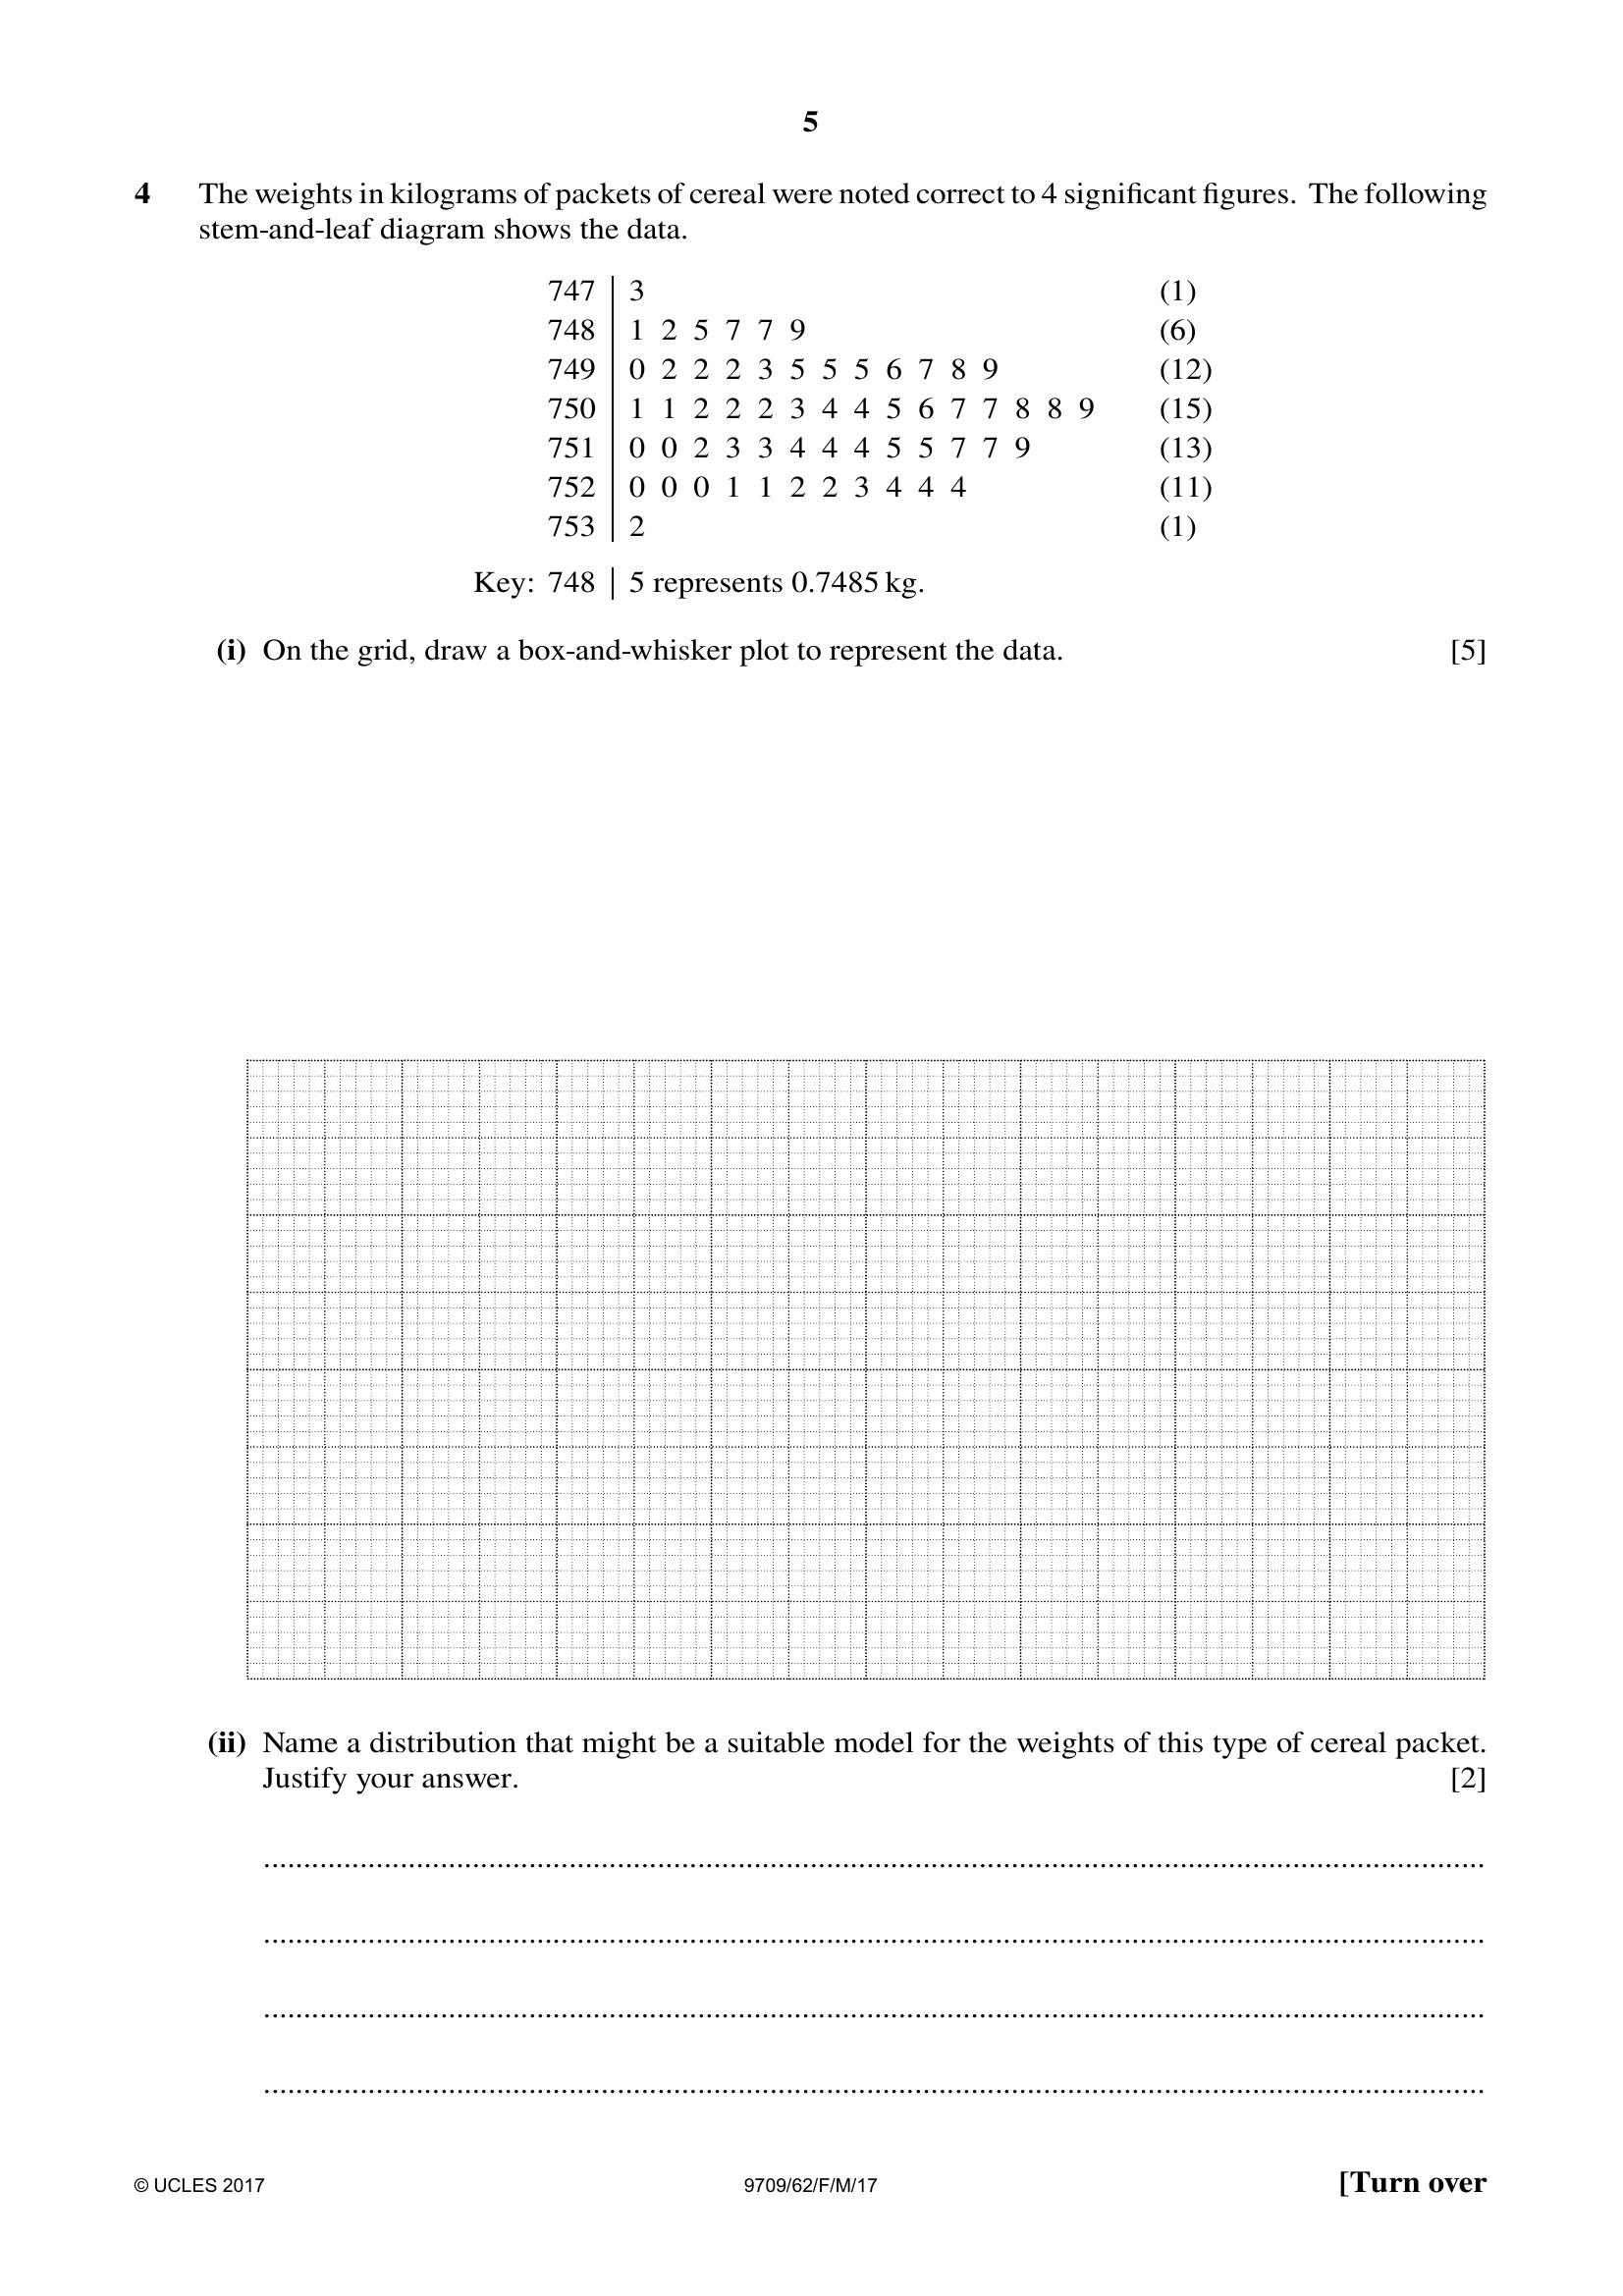question: (2, 135, 1623, 2149)
